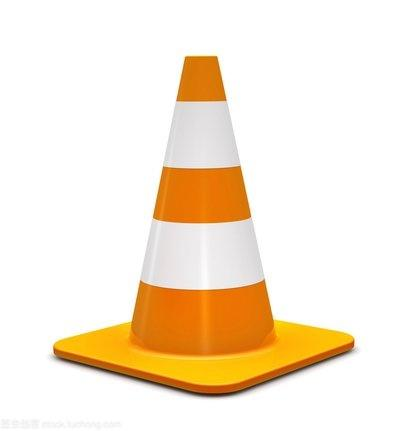cone_barrel: (114, 60, 287, 367)
